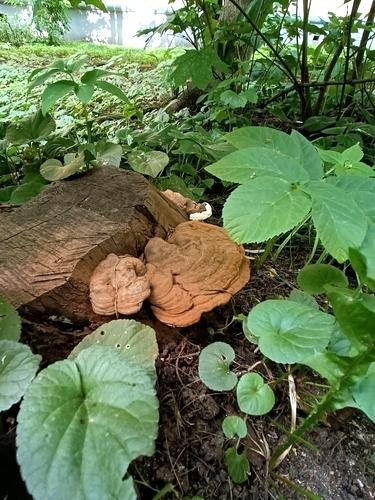Ganoderma - Fruit Body: (156, 217, 253, 333), (85, 249, 157, 319)
